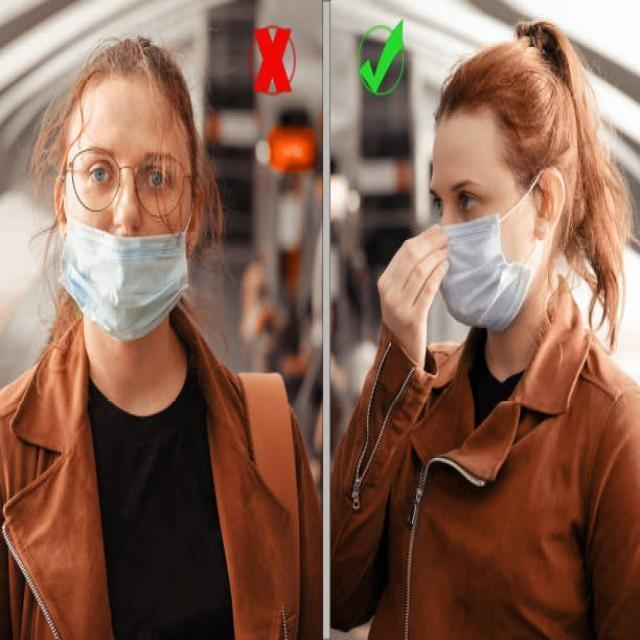hairnet: (58, 197, 196, 329)
